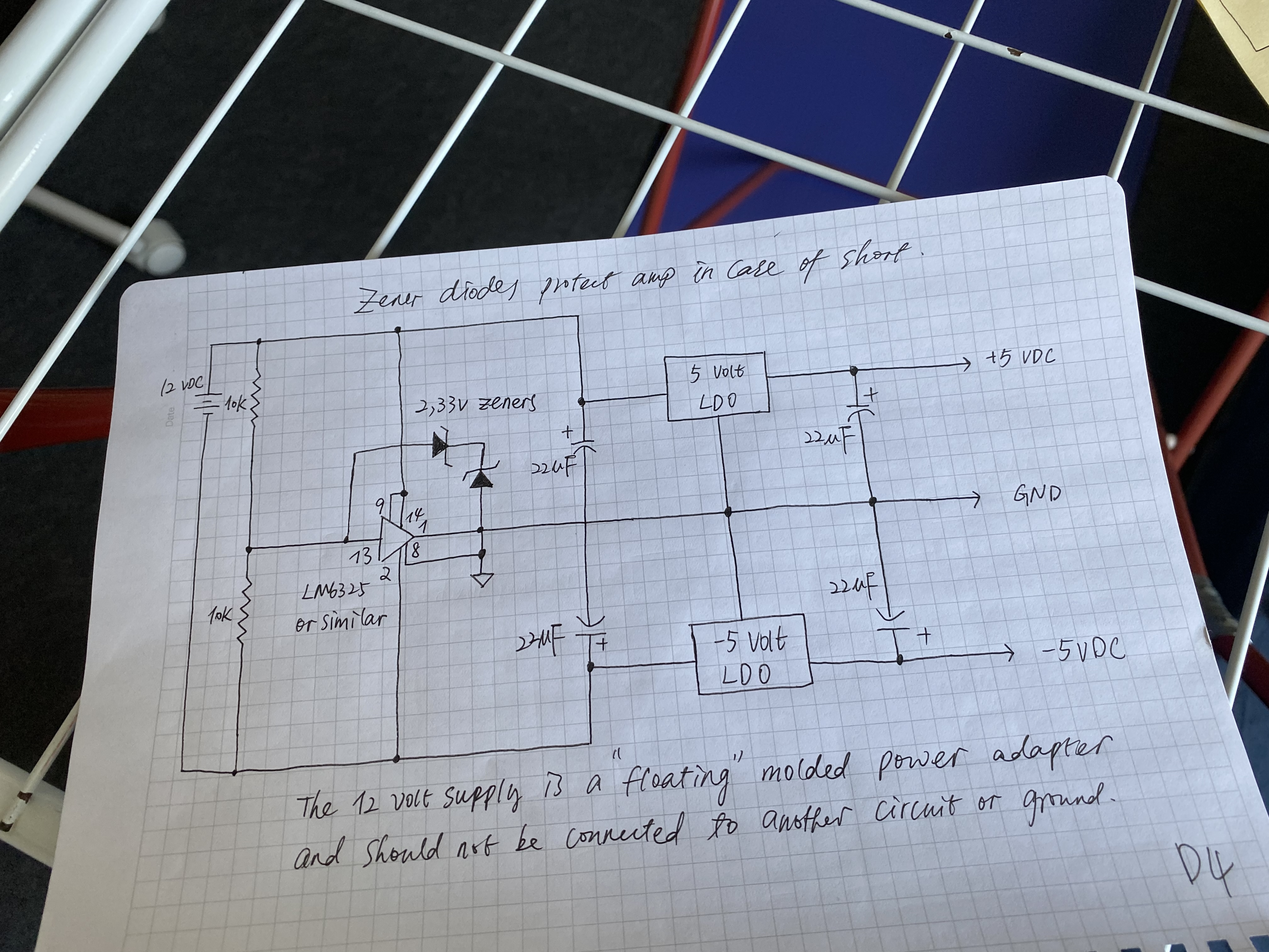capacitor.polarized: (871, 606, 931, 647), (558, 423, 602, 460), (843, 384, 880, 422), (573, 614, 609, 653)
crossover: (396, 440, 407, 450), (580, 518, 590, 528)
diode.zener: (461, 459, 501, 489), (431, 425, 454, 469)
gnd: (469, 570, 496, 590)
integrated_circuit.voltage_regulator: (687, 611, 816, 697), (661, 349, 770, 423)
junction: (583, 735, 599, 749), (892, 654, 907, 668), (847, 363, 861, 377), (390, 752, 404, 766), (584, 659, 597, 673), (242, 543, 256, 556), (866, 495, 880, 508), (176, 764, 189, 777), (576, 396, 588, 409), (229, 766, 241, 779), (722, 506, 735, 518), (253, 335, 265, 347), (476, 548, 488, 560), (392, 324, 403, 336), (572, 310, 584, 321), (475, 525, 487, 536), (206, 340, 217, 350), (341, 534, 350, 545), (351, 448, 360, 458), (399, 489, 409, 498), (480, 441, 488, 447), (388, 492, 394, 498), (403, 562, 409, 567)
operational_amplifier: (371, 512, 416, 566)
resistor: (235, 578, 254, 645), (247, 369, 264, 424)
terminal: (1001, 643, 1017, 663), (959, 354, 975, 373), (969, 490, 983, 509)
text: (288, 782, 1117, 881), (293, 728, 1114, 824), (352, 237, 926, 315), (1174, 841, 1239, 899), (293, 606, 388, 633), (792, 422, 861, 458), (1043, 634, 1127, 663), (824, 567, 885, 604), (713, 625, 788, 654), (514, 622, 567, 657), (1012, 480, 1068, 513), (299, 578, 370, 603), (984, 345, 1060, 368), (414, 394, 469, 418), (721, 662, 771, 687), (477, 393, 536, 413), (689, 364, 746, 384), (159, 374, 205, 396), (529, 458, 572, 476), (699, 392, 737, 412), (224, 392, 250, 414), (207, 604, 234, 625), (348, 547, 374, 566), (406, 505, 426, 525), (379, 566, 393, 582), (411, 541, 422, 559), (375, 496, 385, 515), (417, 519, 429, 534)
voltage.battery: (192, 392, 223, 416)
